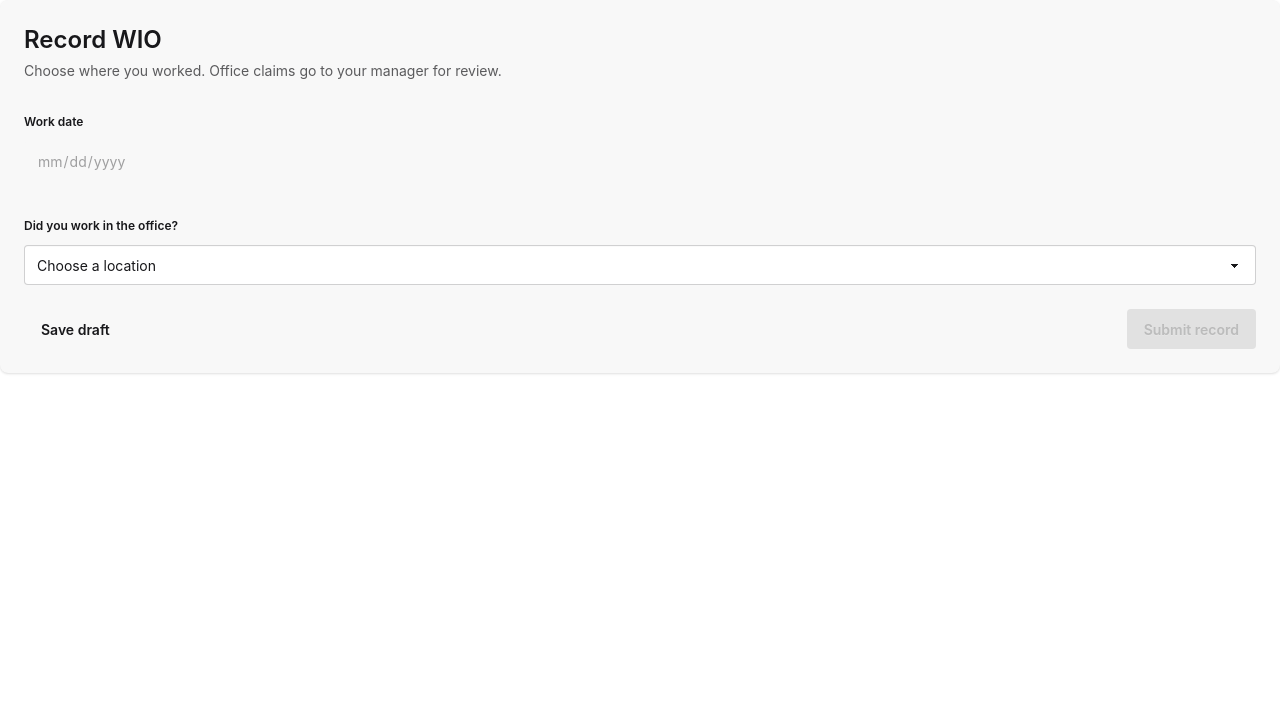
it: RecordForm › keeps form input on a stale conflict
Select "No, elsewhere" in the dropdown labelled "Did you work in the office?" at x=640, y=265, box [24, 245, 1256, 285]
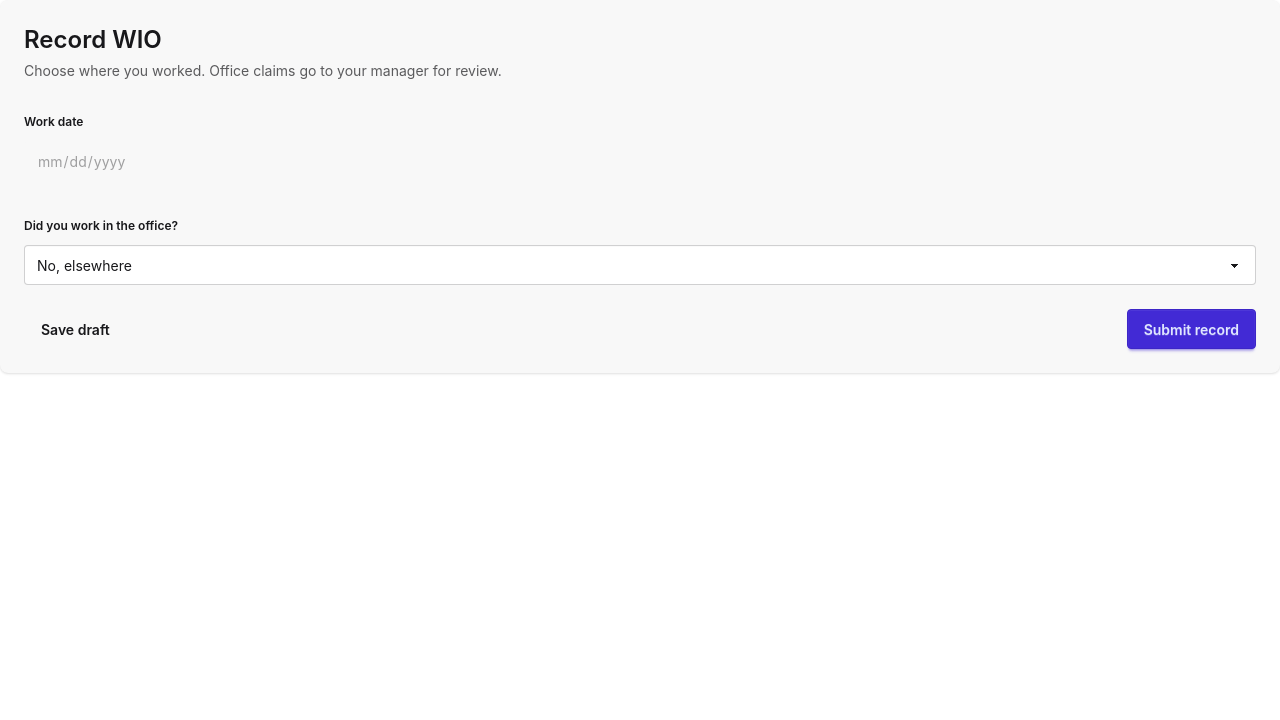
Click the button "Submit record".
click(1191, 329)  # box [1127, 309, 1256, 349]
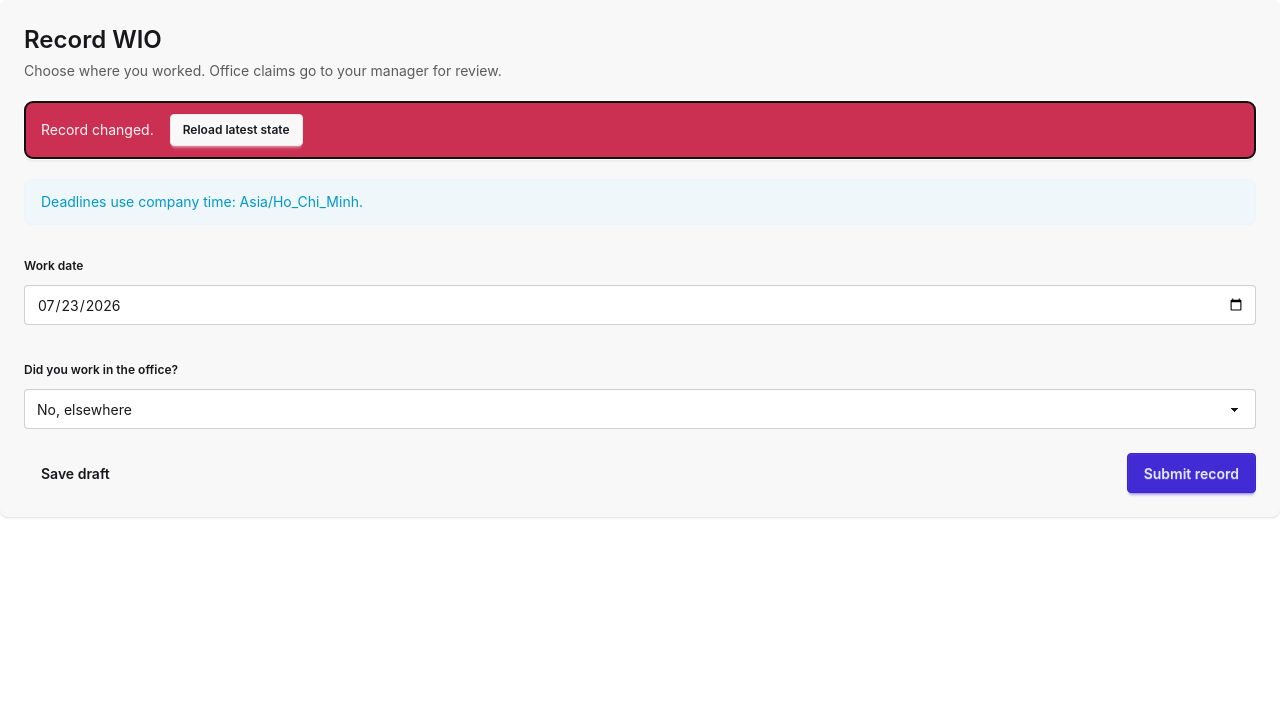
Result: the message "Record changed. Reload latest state" is shown at [24, 101, 1256, 159]
Result: the button "Reload latest state" is shown at [170, 114, 302, 146]
